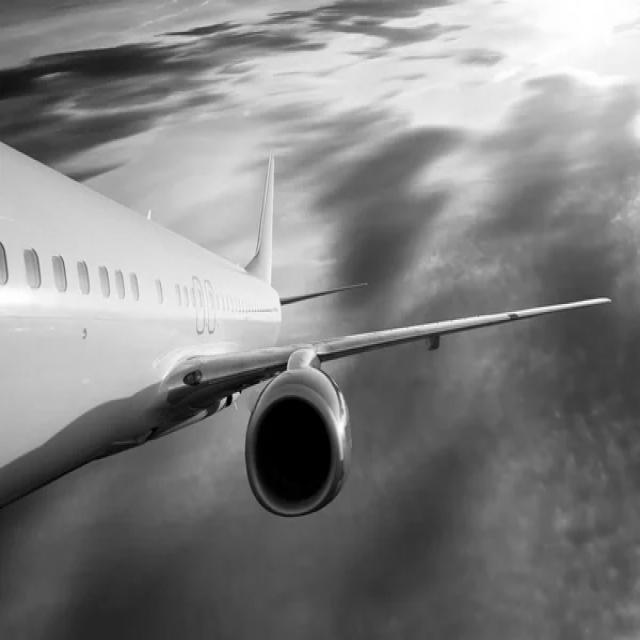Aircraft: (3, 124, 561, 524)
